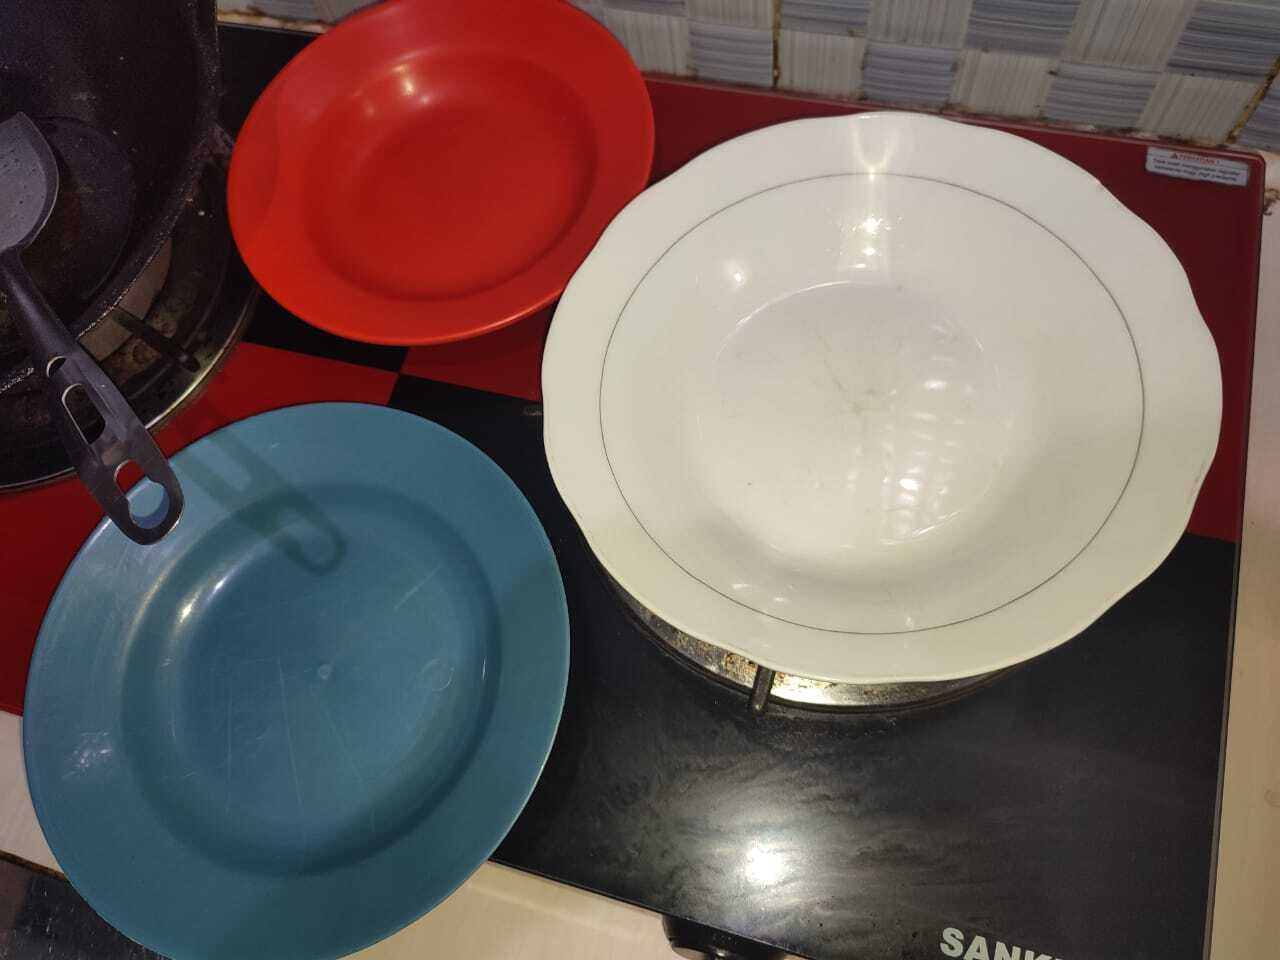piring: (539, 112, 1222, 680), (29, 403, 567, 951), (216, 5, 647, 342)
